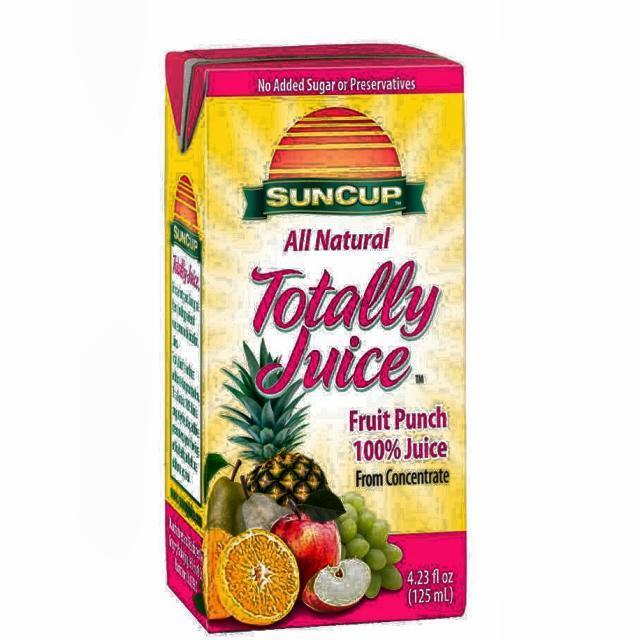cardboard: (162, 42, 468, 632)
